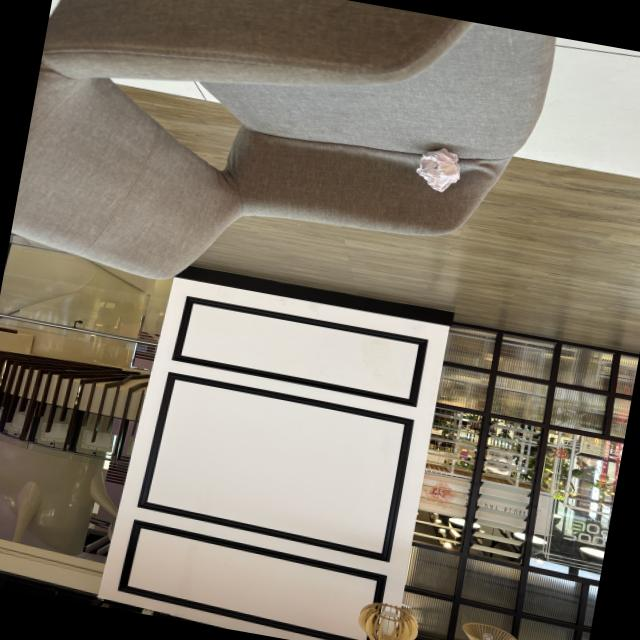crumpled_paper: (412, 142, 466, 196)
